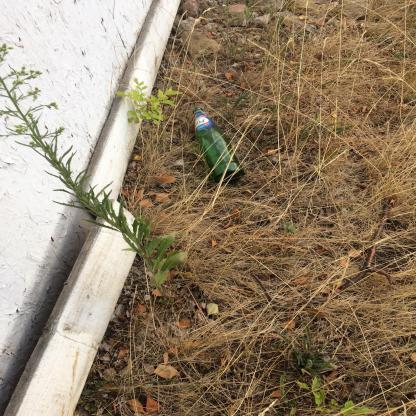cam: (194, 108, 247, 184)
